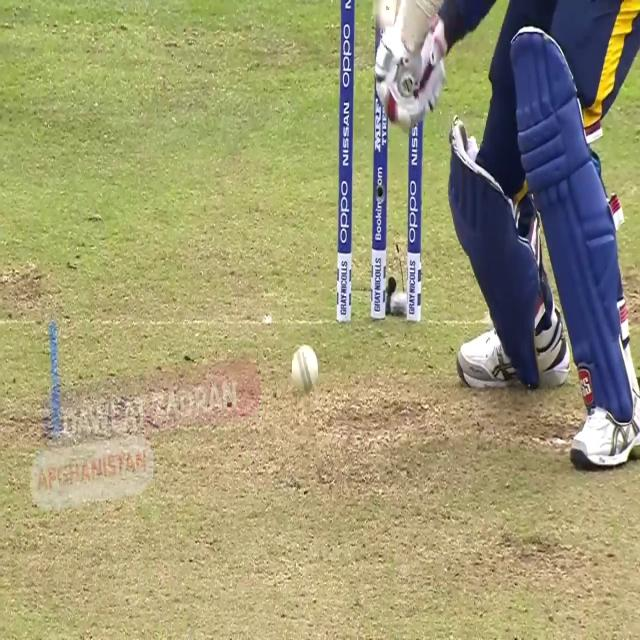ball: (291, 344, 319, 395)
